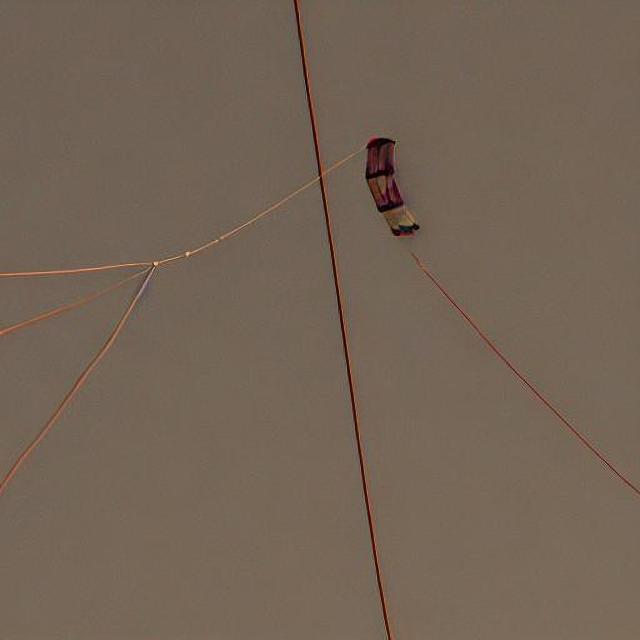floating object: (363, 134, 418, 235)
